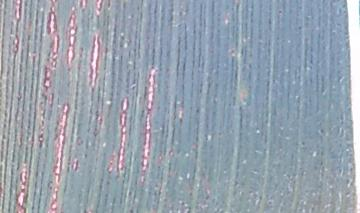tarspot: (127, 208, 137, 213), (193, 108, 201, 114), (83, 152, 90, 158), (319, 128, 325, 135), (301, 140, 306, 146)
